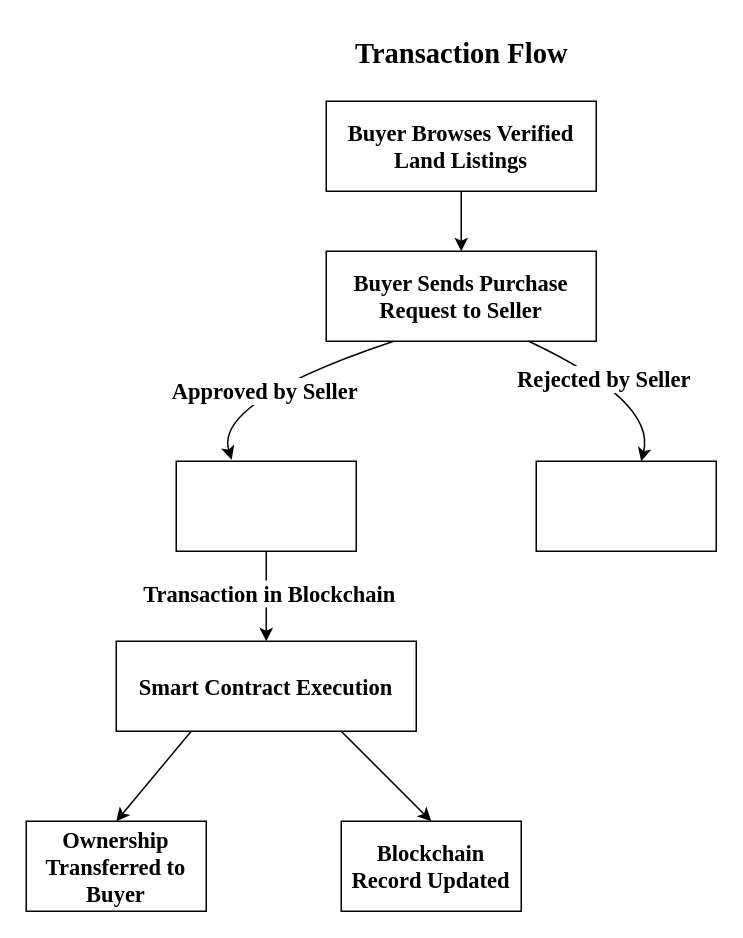
This 743x938 diagram has some shape labels left out. The shapes that lost their labels are listed below. From the top down, each one's box as (x1, y1, x2, y2) in pixels, then its label:
(175, 460, 356, 551): Payment Process Initiated
(535, 460, 716, 551): Request Rejected
